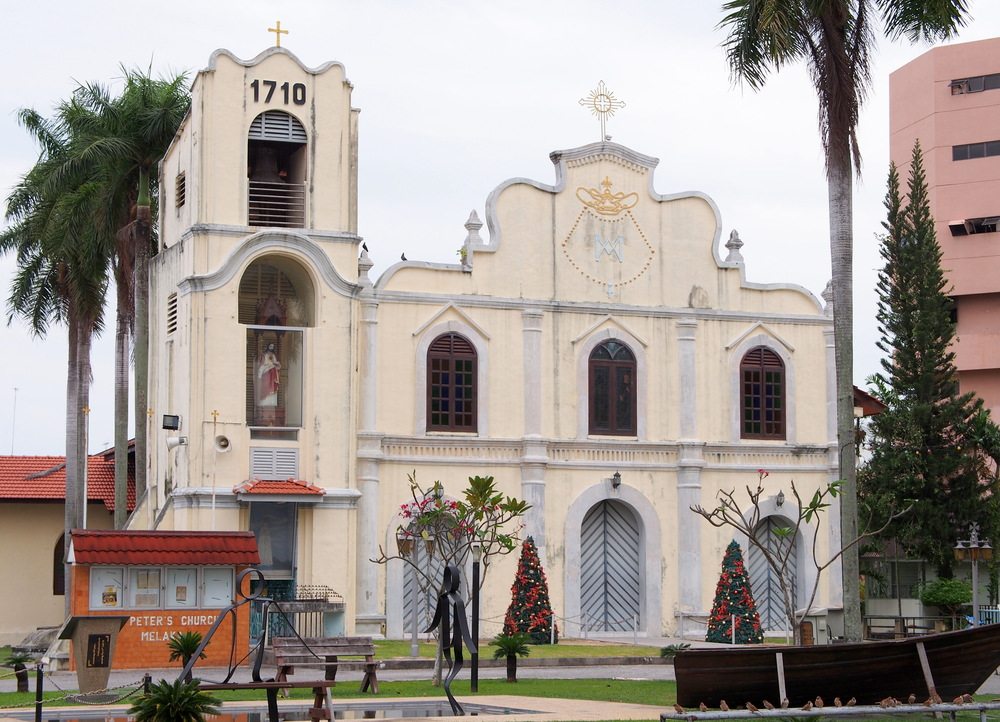Church: (139, 9, 840, 609)
